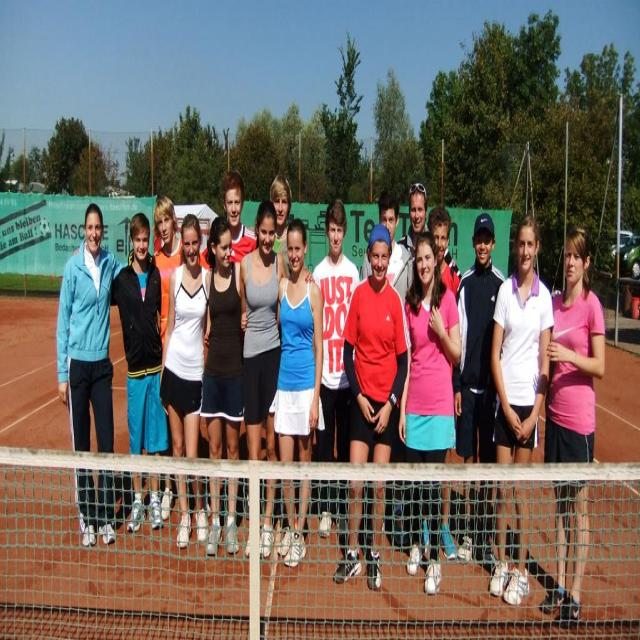nomask: (565, 237, 583, 282), (286, 230, 304, 272), (518, 227, 534, 272), (370, 241, 388, 280), (416, 244, 434, 283), (409, 190, 425, 232), (183, 226, 199, 266), (380, 204, 396, 242), (474, 225, 490, 263), (258, 216, 274, 254), (216, 231, 232, 268), (86, 213, 100, 253), (433, 220, 447, 259), (226, 189, 240, 226), (133, 224, 148, 258), (328, 219, 342, 255), (273, 190, 288, 223), (157, 210, 172, 242)
